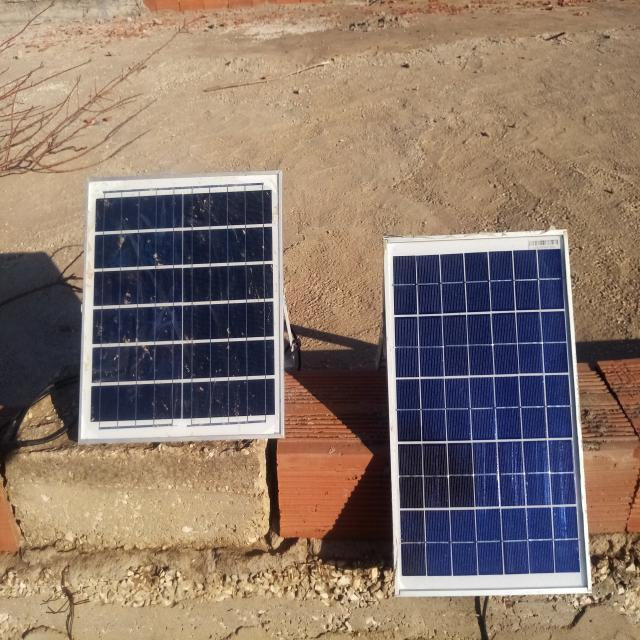Normal Solar Panel: (383, 230, 592, 595)
